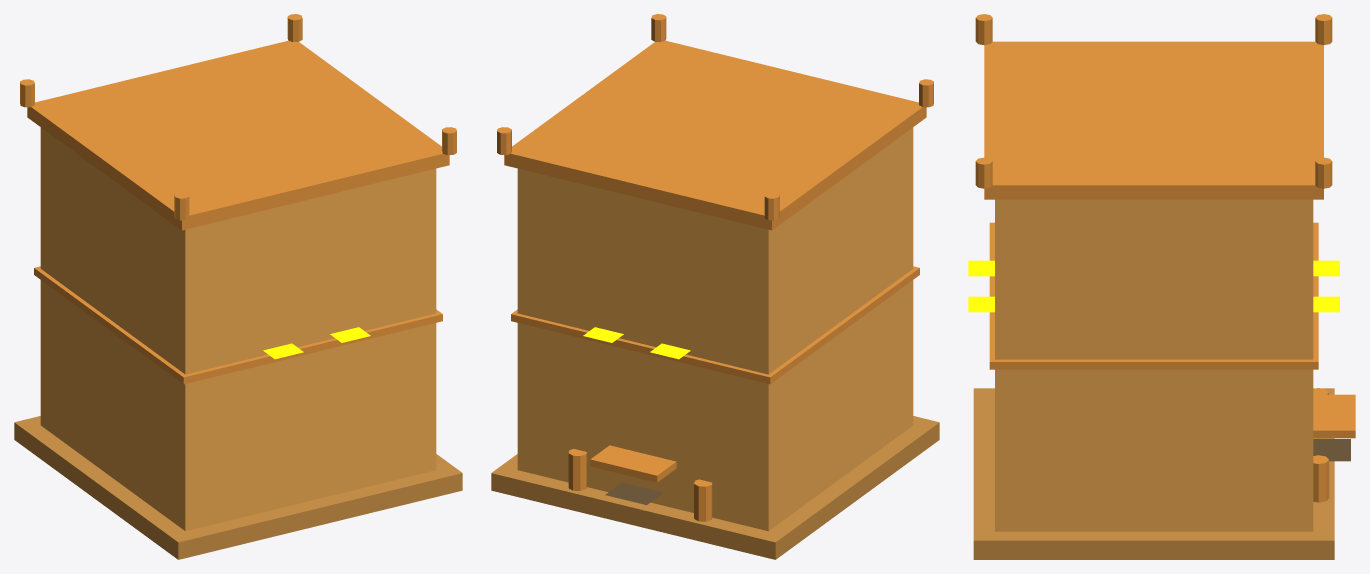
The model's file is devops_center.glb.
3 views of the same model, side by side, from view 1: azimuth 30°, elevation 25°; view 2: azimuth 150°, elevation 25°; view 3: azimuth 270°, elevation 25° (orthographic). The views are drawn at different scales.
Visible parts, largest first — view 1: devops_center; view 2: devops_center; view 3: devops_center.
Part boxes in pixels (box(x1,y1,x2,y2)): devops_center: box(14, 14, 462, 559); devops_center: box(491, 14, 939, 559); devops_center: box(968, 14, 1355, 559).
Size of the model in its own units: 3.4 by 4.1 by 3.65.
